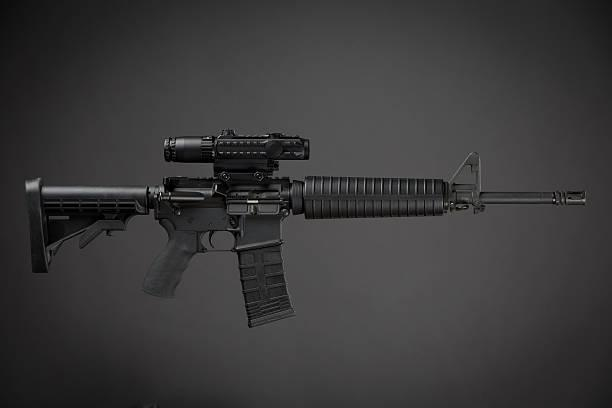larga: (24, 128, 586, 330)
